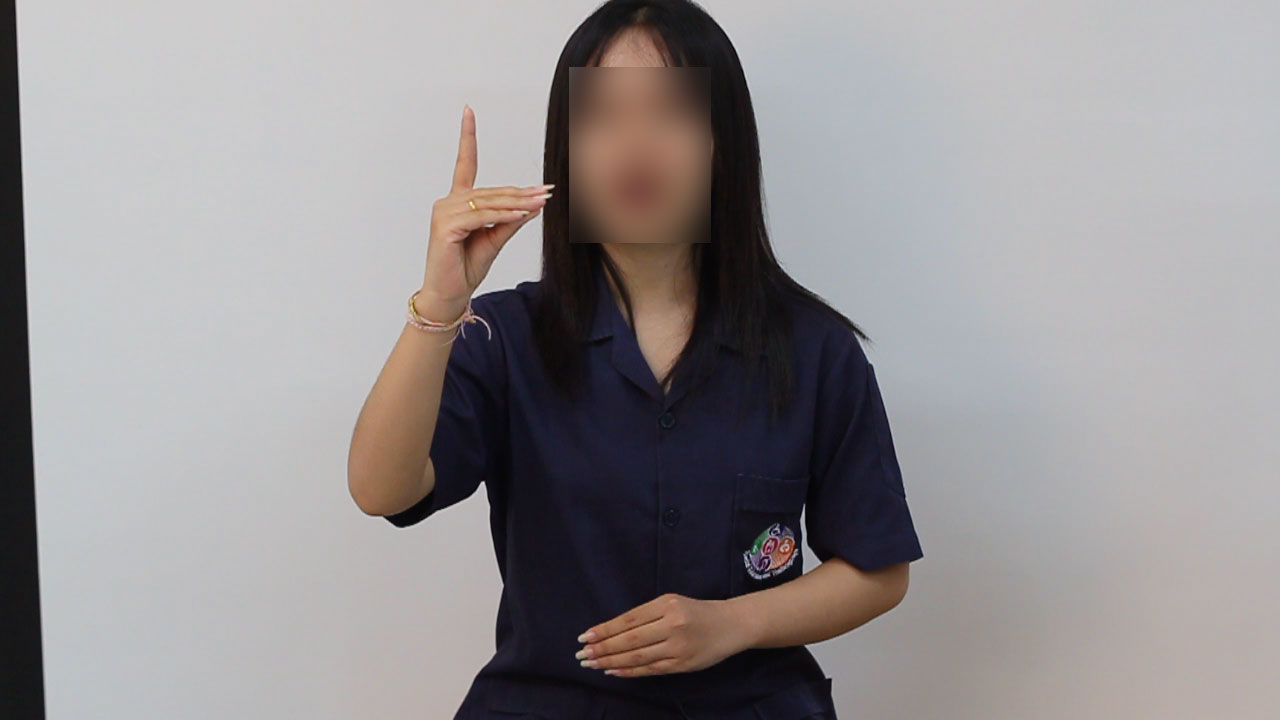dor: (413, 98, 568, 300)
